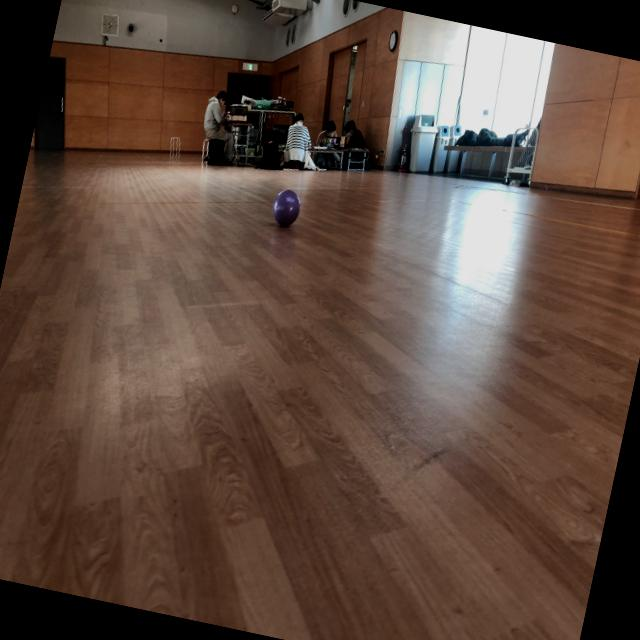purple_ball: (268, 184, 302, 230)
